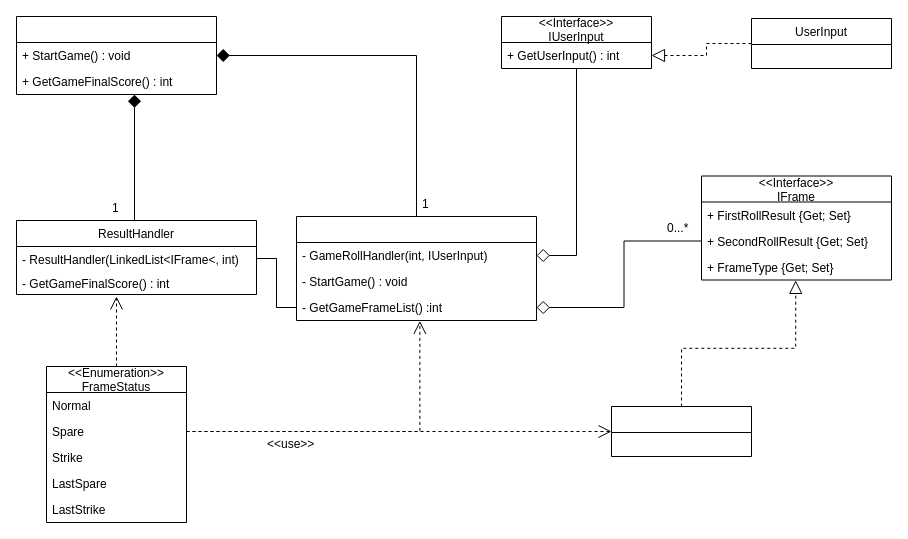
Some shapes in this 908 by 539 pixel diagram are drawn without their labels. Here are the shapes that lost their labels. From the top down, the box of each, then its label:
(16, 16, 216, 94): BowlingGame
(296, 216, 536, 320): GameRollsHandler
(610, 406, 752, 456): Frame
